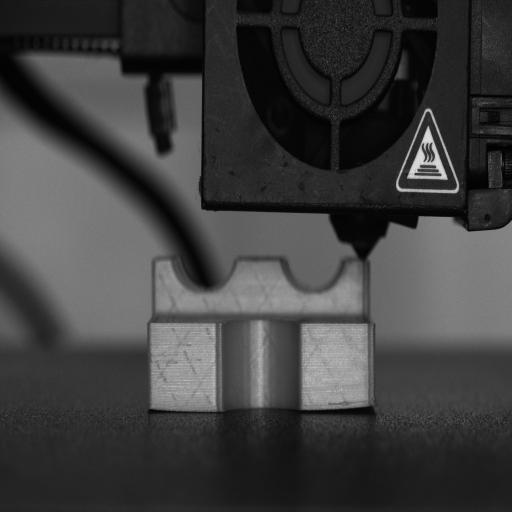warp: (313, 394, 382, 416), (145, 398, 186, 416)
